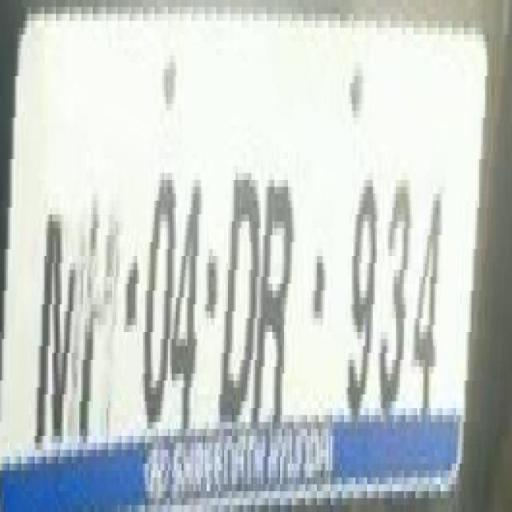number plate: (2, 0, 479, 491)
